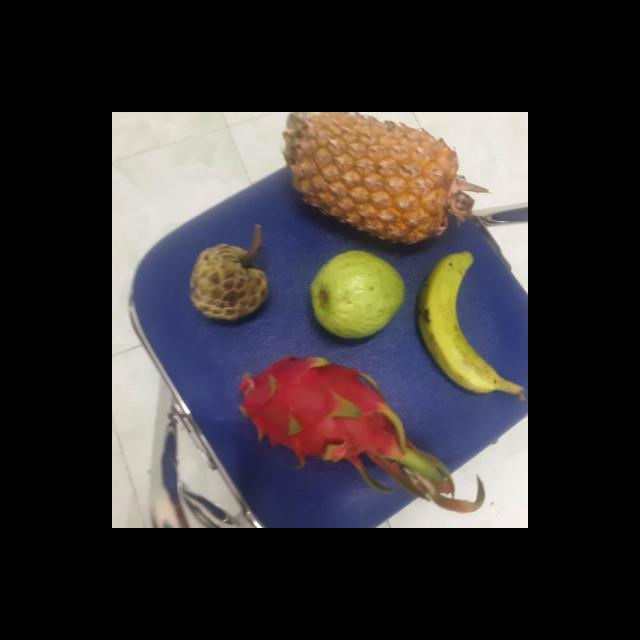Sakya fruit: (186, 242, 267, 322)
banana: (414, 251, 507, 397)
guava: (304, 252, 404, 339)
pineapple: (284, 112, 456, 240)
pitaya: (231, 354, 403, 470)
